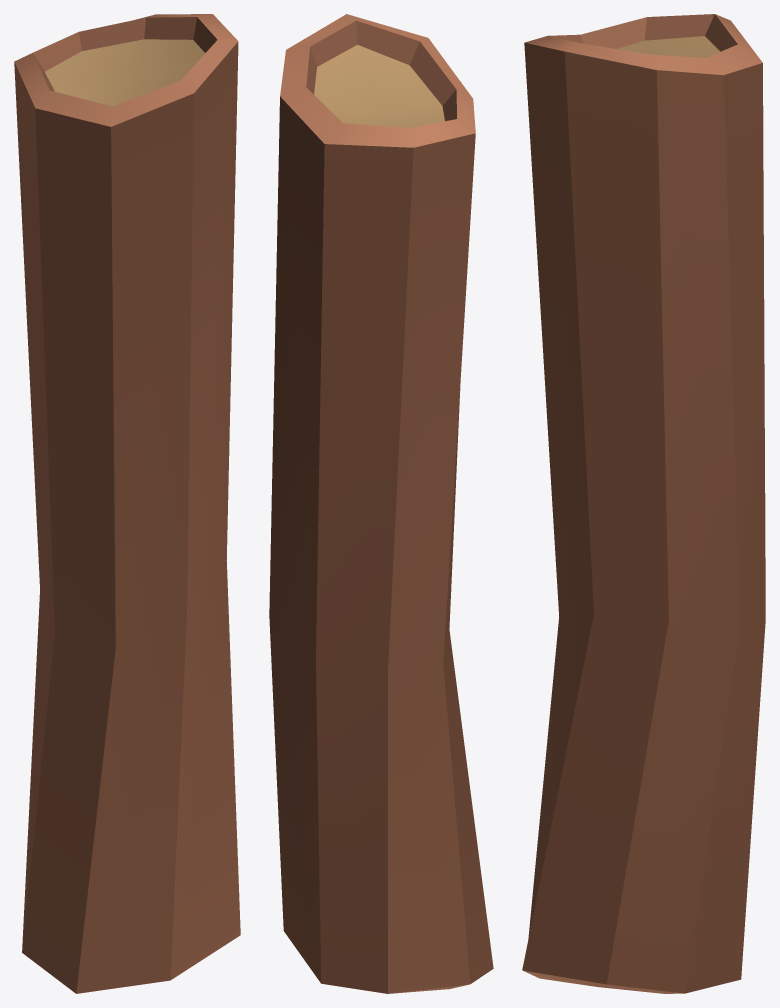
File: ice_pole_log_1.5.fbx
The picture shows the model from 3 angles, left to right: view 1: azimuth 30°, elevation 25°; view 2: azimuth 150°, elevation 25°; view 3: azimuth 270°, elevation 25°; orthographic projection. The views are drawn at different scales.
Parts seen in each view (by area): view 1: pole_log_1.5; view 2: pole_log_1.5; view 3: pole_log_1.5.
Part boxes in pixels (box(x1,y1,x2,y2)): pole_log_1.5: box(14, 14, 240, 993); pole_log_1.5: box(269, 14, 493, 993); pole_log_1.5: box(522, 14, 765, 993).
Size of the model in its own units: 0.4202 by 1.92 by 0.4326.
1 material, 1 textured.
